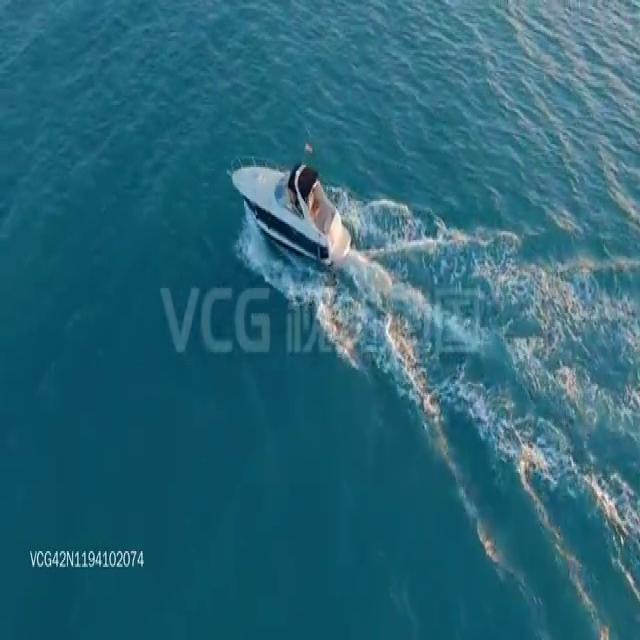houseboat: (228, 150, 352, 268)
